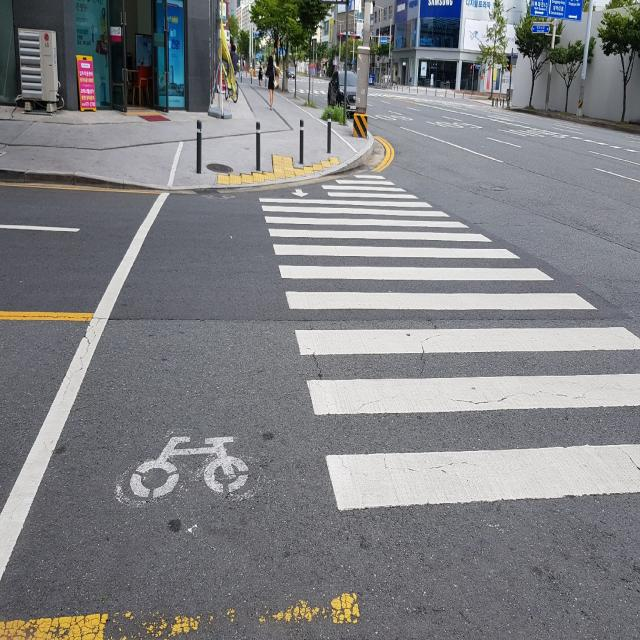횡단보도: (257, 173, 640, 518)
